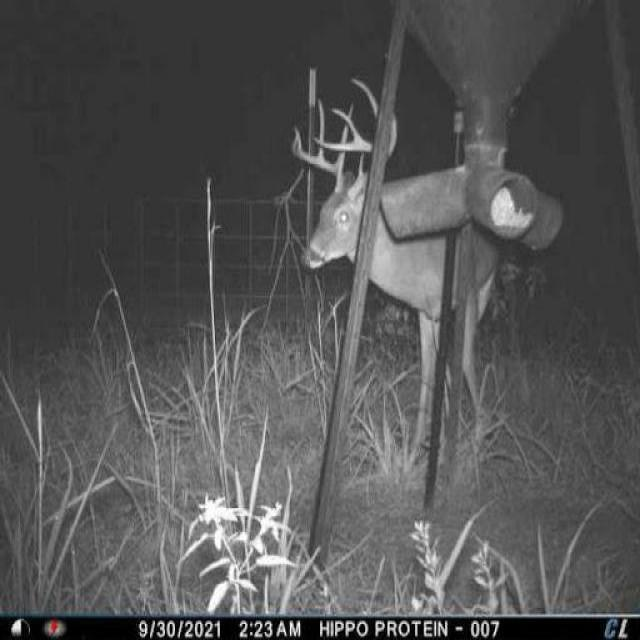deer: (281, 65, 515, 476)
